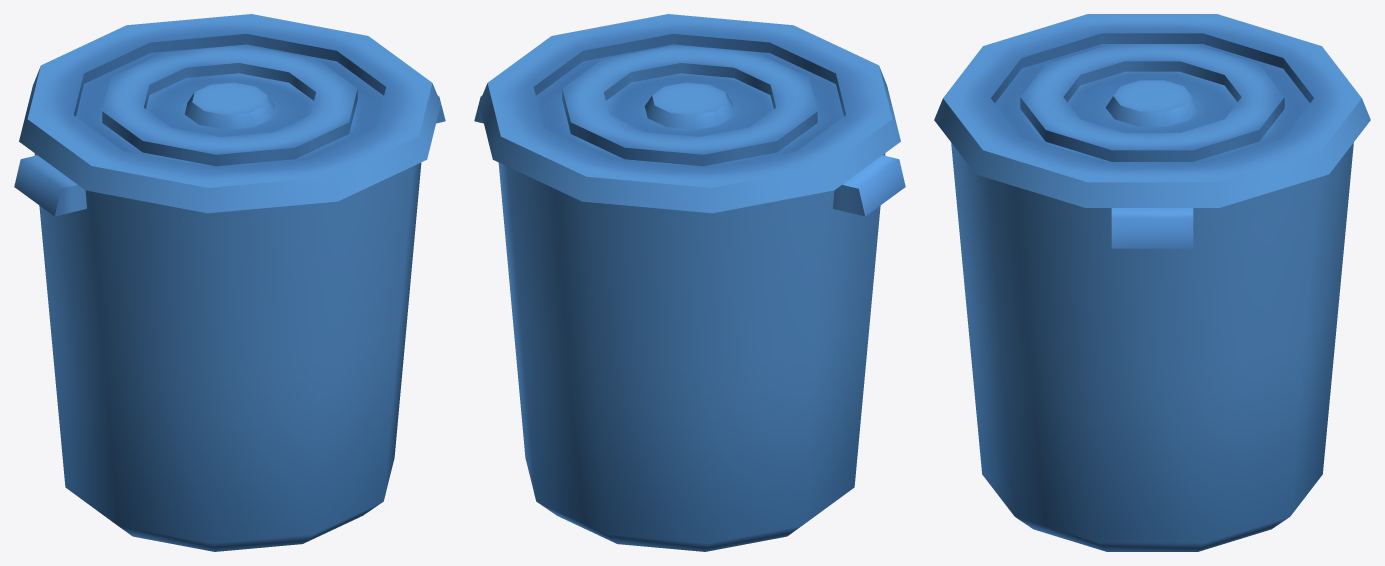
Rendered from BanyoSet_Balde.fbx.
The picture shows the model from 3 angles, left to right: view 1: azimuth 30°, elevation 25°; view 2: azimuth 150°, elevation 25°; view 3: azimuth 270°, elevation 25°; orthographic projection.
Visible parts, largest first — view 1: Balde_body, Balde_cover; view 2: Balde_body, Balde_cover; view 3: Balde_body, Balde_cover.
Boxes of the visible parts, <box> form: Balde_body: <box>14,96,445,551</box>; Balde_cover: <box>19,14,440,213</box>; Balde_body: <box>474,96,905,551</box>; Balde_cover: <box>479,14,900,213</box>; Balde_body: <box>951,142,1353,551</box>; Balde_cover: <box>934,14,1370,207</box>.
Size of the model in its own units: 78.23 by 74.96 by 74.78.
